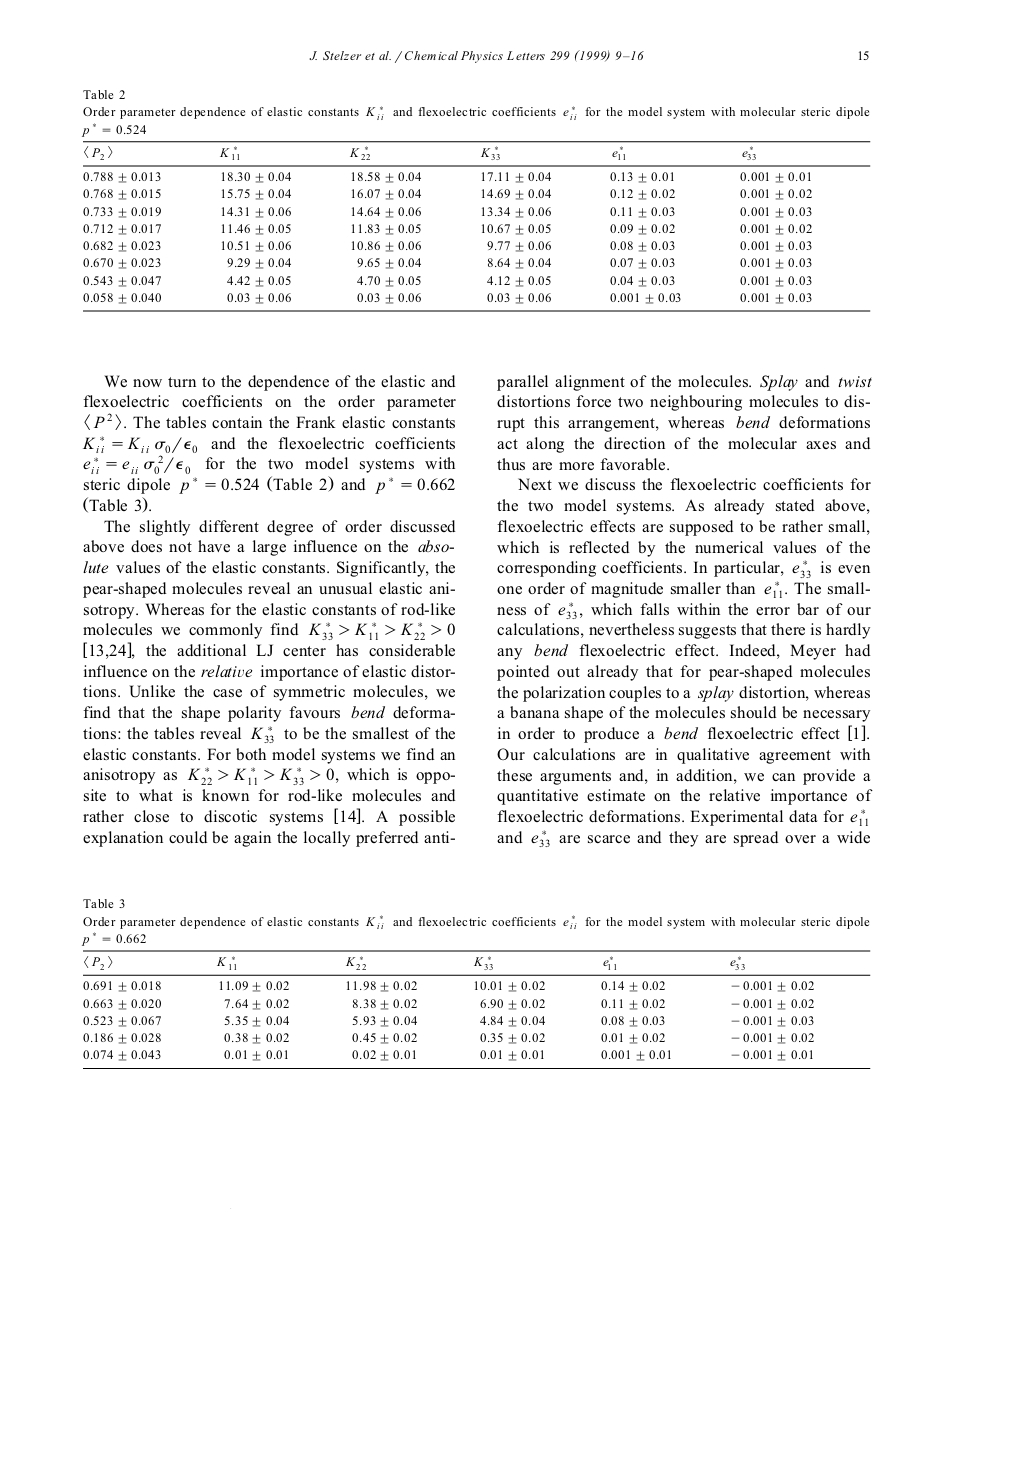Table: (83, 141, 870, 311), (83, 950, 870, 1067)
formula: (81, 122, 145, 137), (81, 931, 145, 946)
